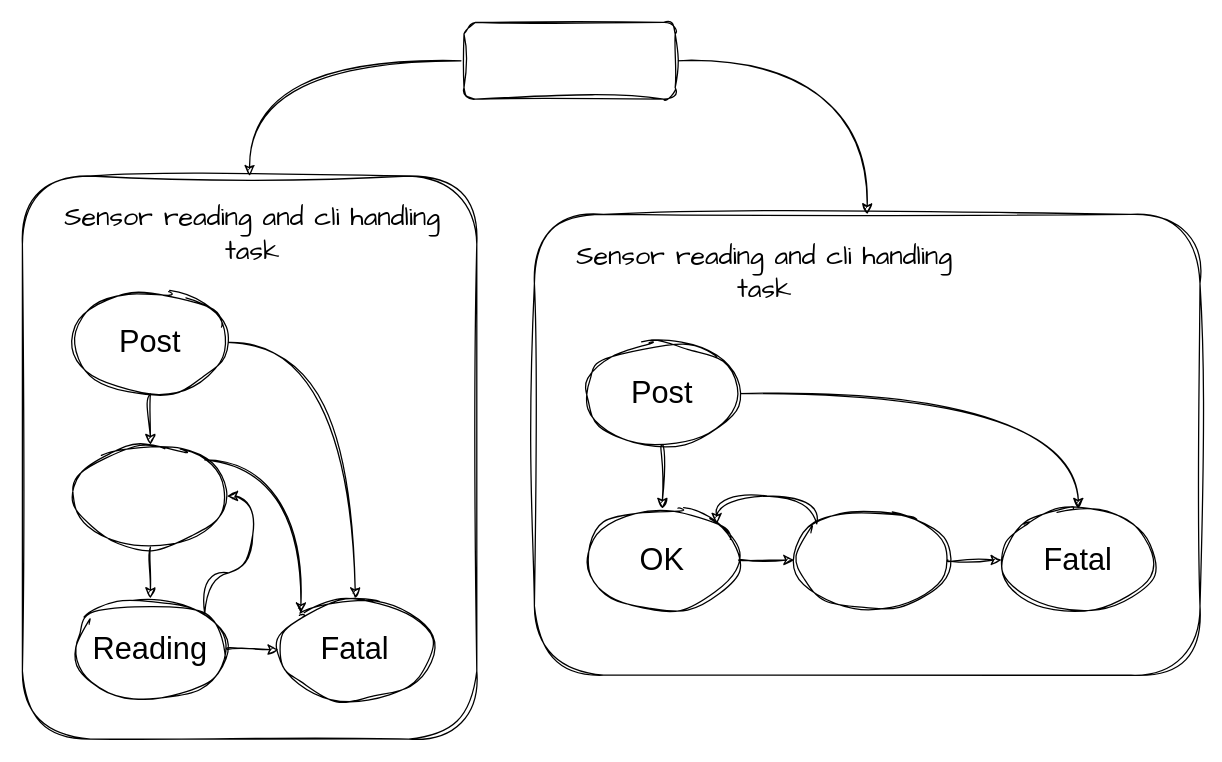
This 1222x762 diagram has some shape labels left out. Here are the shapes that lost their labels. From the top down, the centre of each, then its label:
At (569,60): "Timebase".
At (149,495): "Paused".
At (870,559): "Warning".
